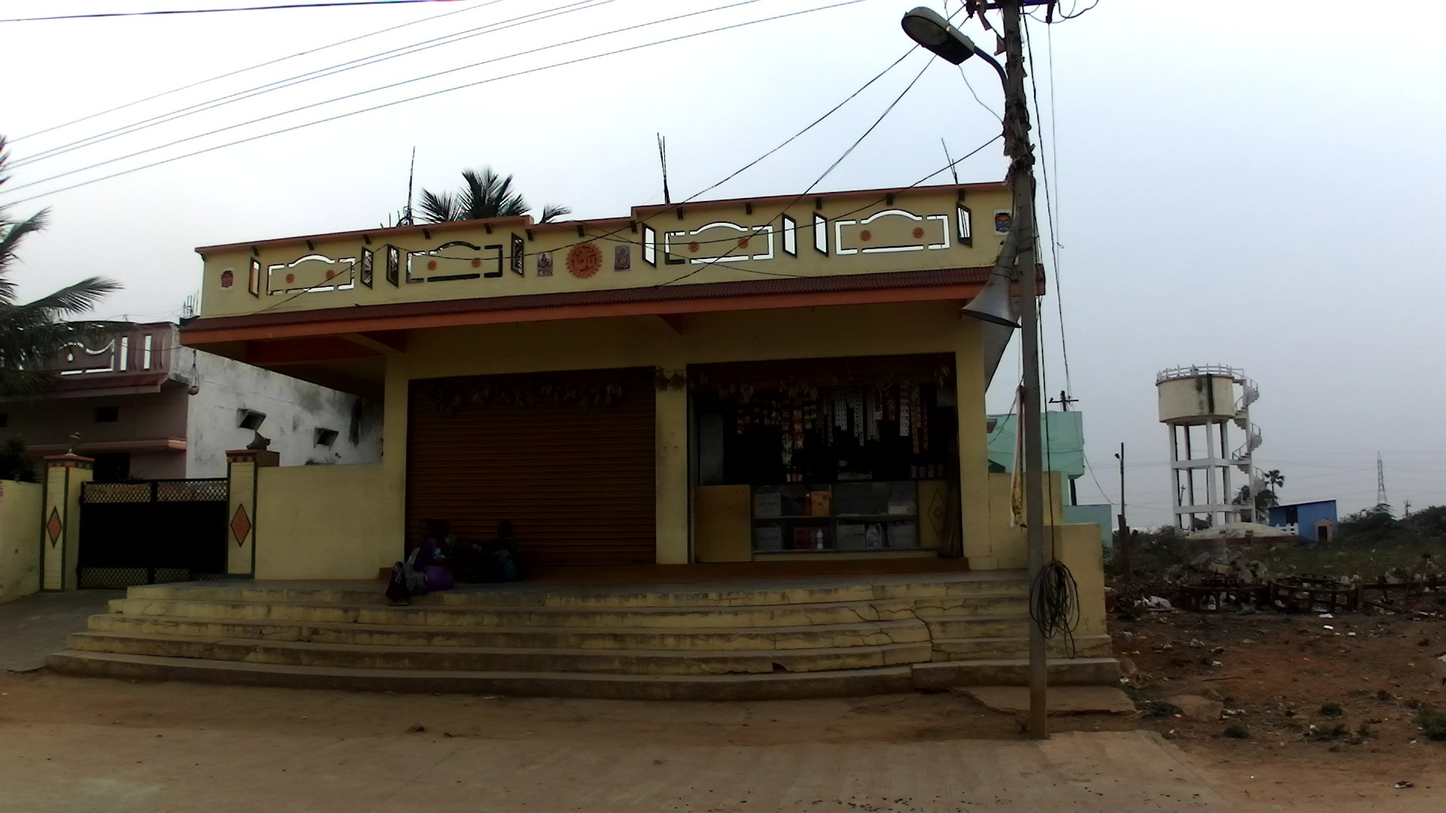person: (383, 522, 451, 606), (456, 513, 521, 584), (430, 519, 463, 584)
